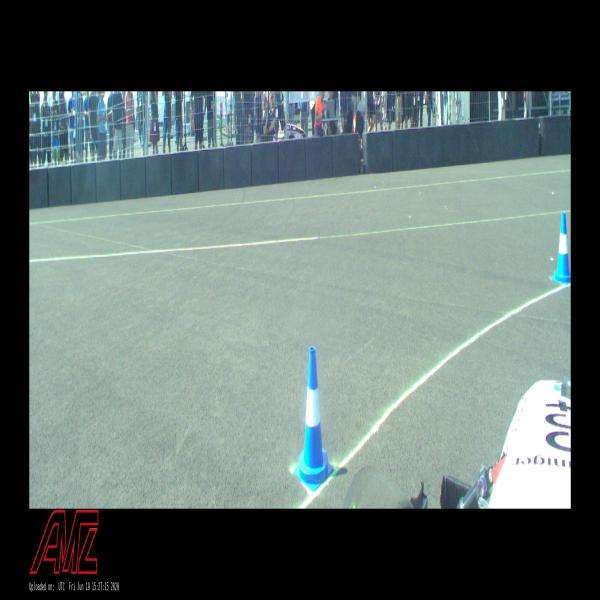blue_cone: (294, 346, 333, 490), (551, 212, 571, 286)
